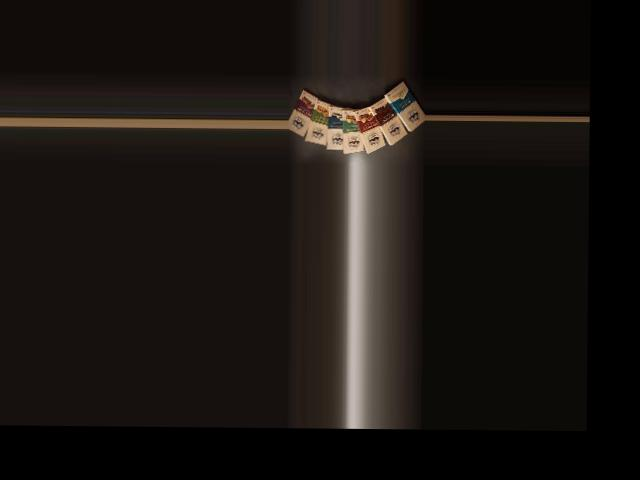chocolate: (383, 77, 425, 133)
